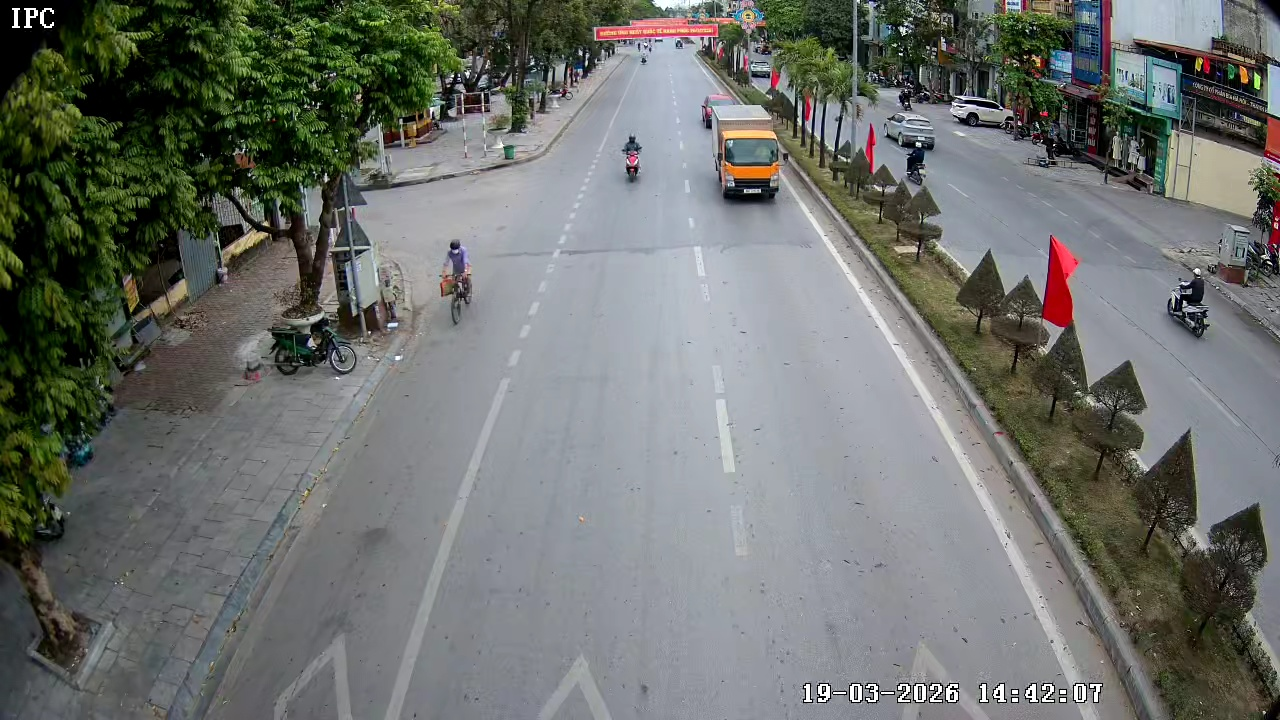bike: (437, 239, 476, 327)
car: (884, 110, 936, 151)
motorbike: (264, 317, 371, 376), (1165, 263, 1212, 340), (619, 131, 647, 183)
truck: (707, 98, 783, 203)
